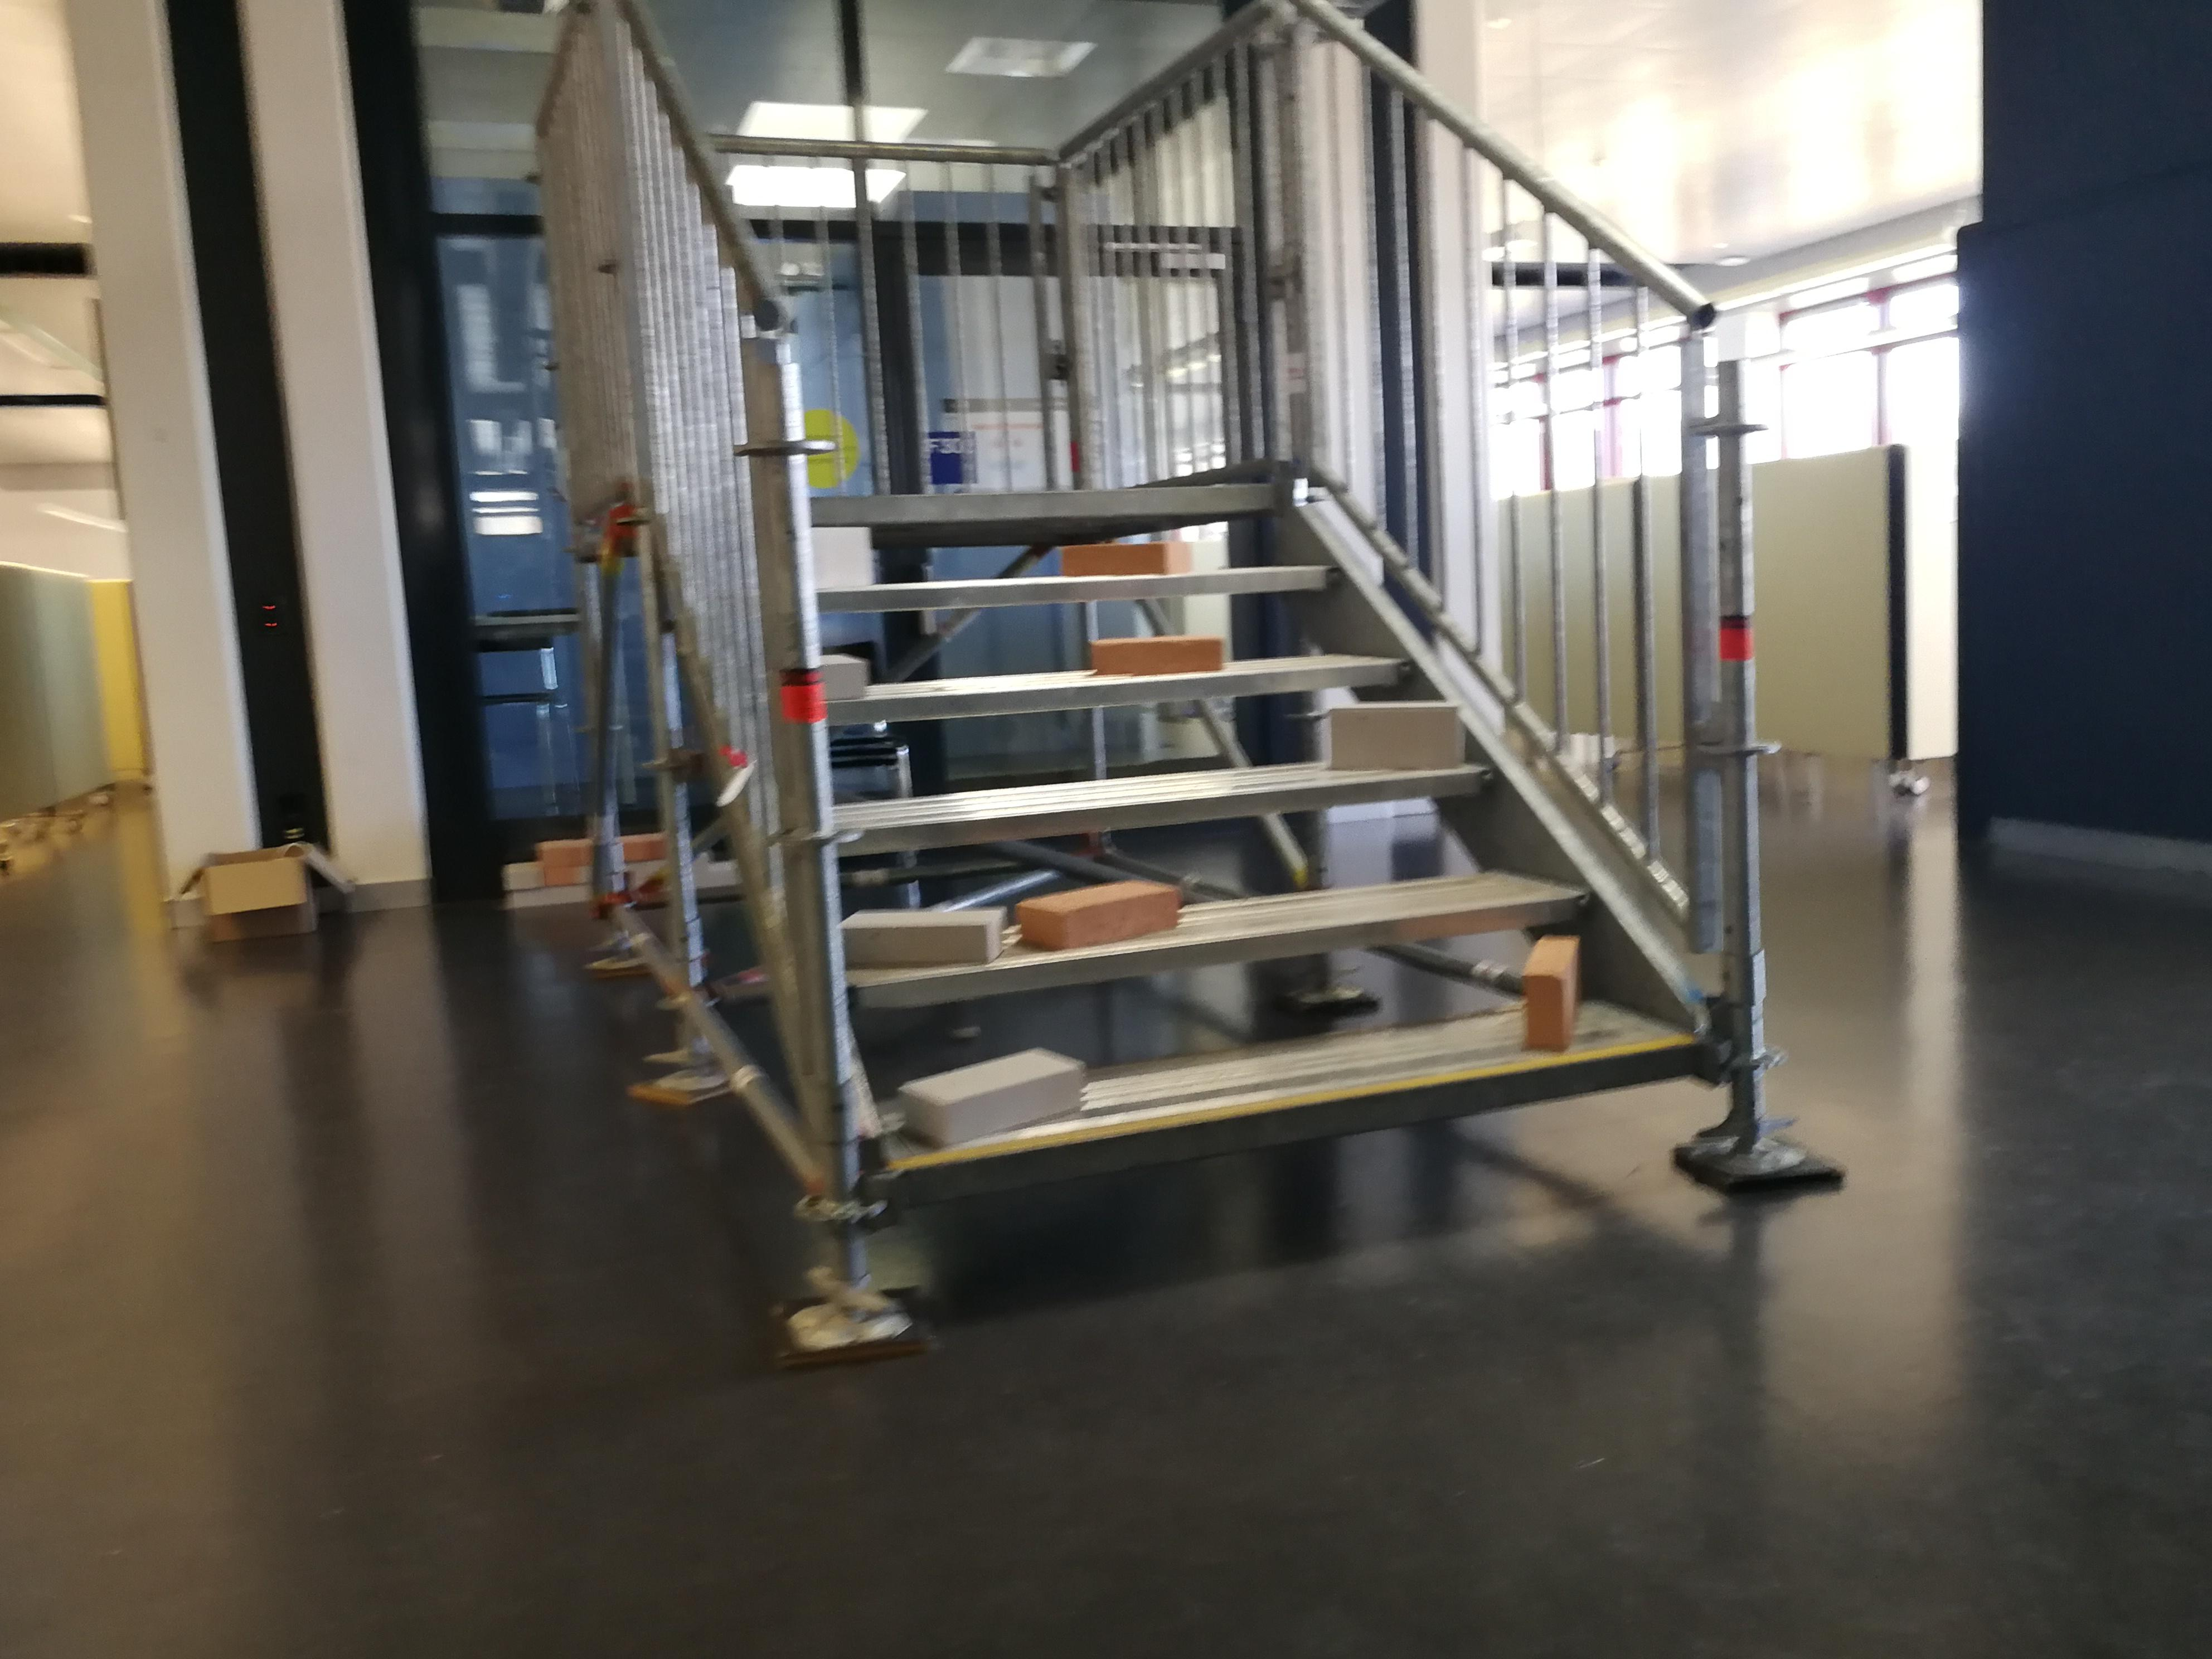brick: (902, 1046, 1080, 1143), (1017, 880, 1177, 948), (841, 910, 1000, 964), (1332, 702, 1456, 769), (1522, 934, 1576, 1047), (1090, 636, 1221, 673), (1064, 544, 1191, 573), (813, 528, 869, 587), (822, 652, 862, 699)
edge: (902, 1042, 1700, 1199), (845, 887, 1585, 1021), (836, 763, 1491, 852), (824, 653, 1406, 721), (815, 568, 1341, 613), (808, 486, 1275, 521)
stairs: (763, 5, 1848, 1364)
steps: (787, 460, 1721, 1218)
